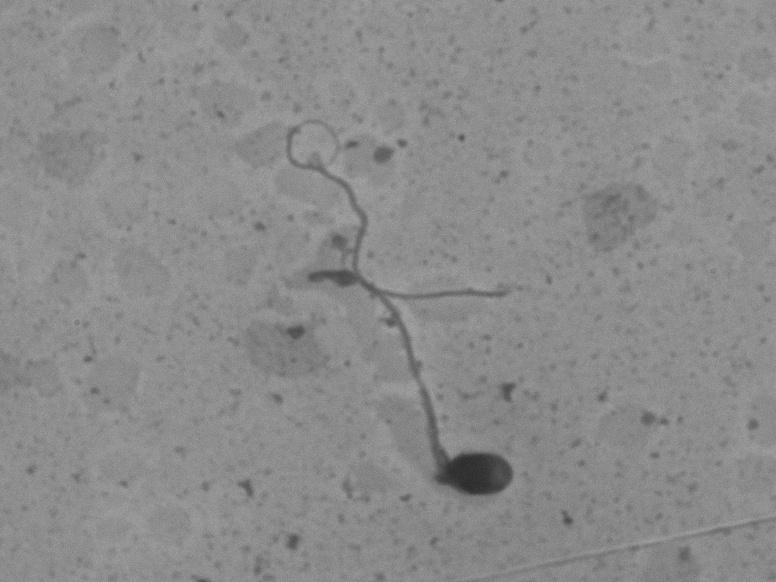Abnormal: (256, 91, 541, 510)
